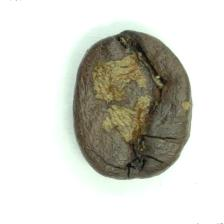NG: (88, 43, 166, 159)
